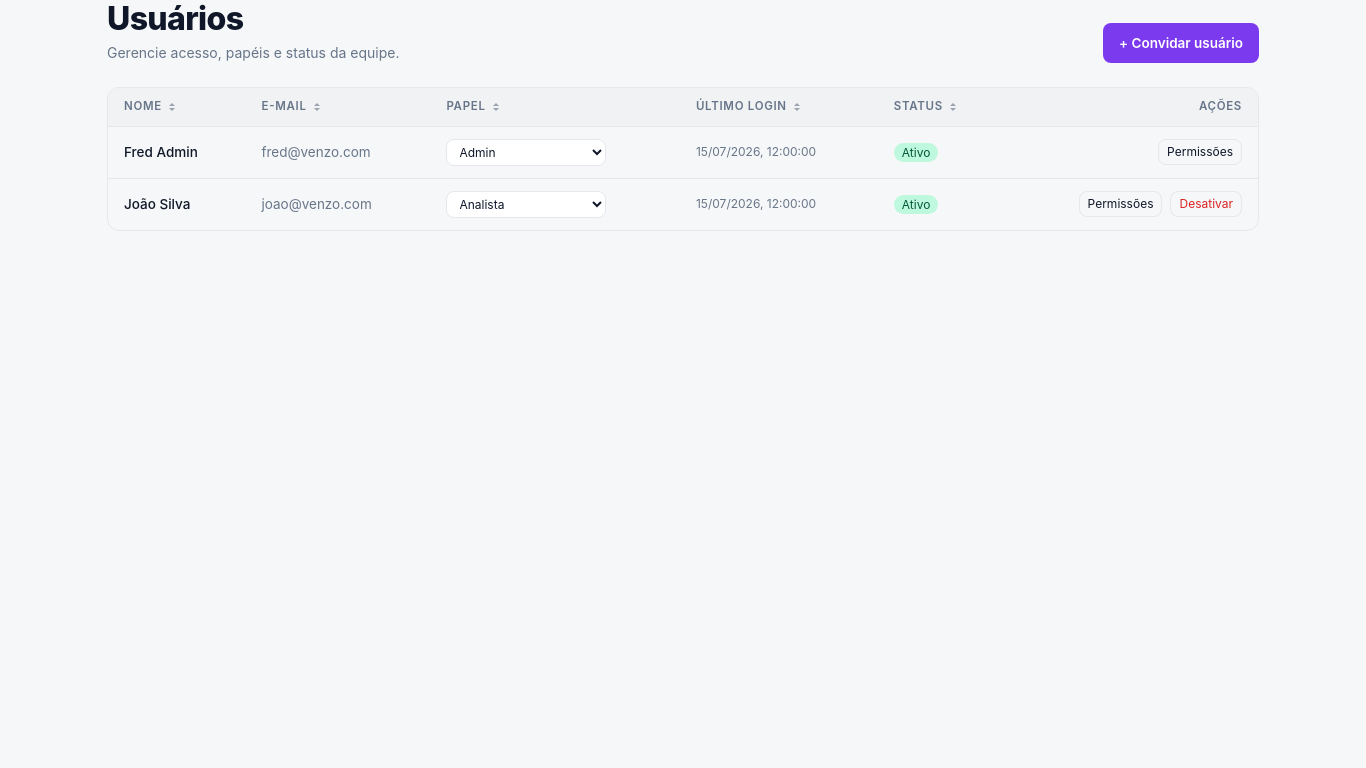
Scenario: /admin/users — convite + ordenação (coverage housekeeping) › botão "+ Convidar usuário" abre o modal com os campos
What coordinates should you click on to do the following:
click the button "+ Convidar usuário"
I would click on:
 (1181, 43)
Its box is [1103,23,1259,63].
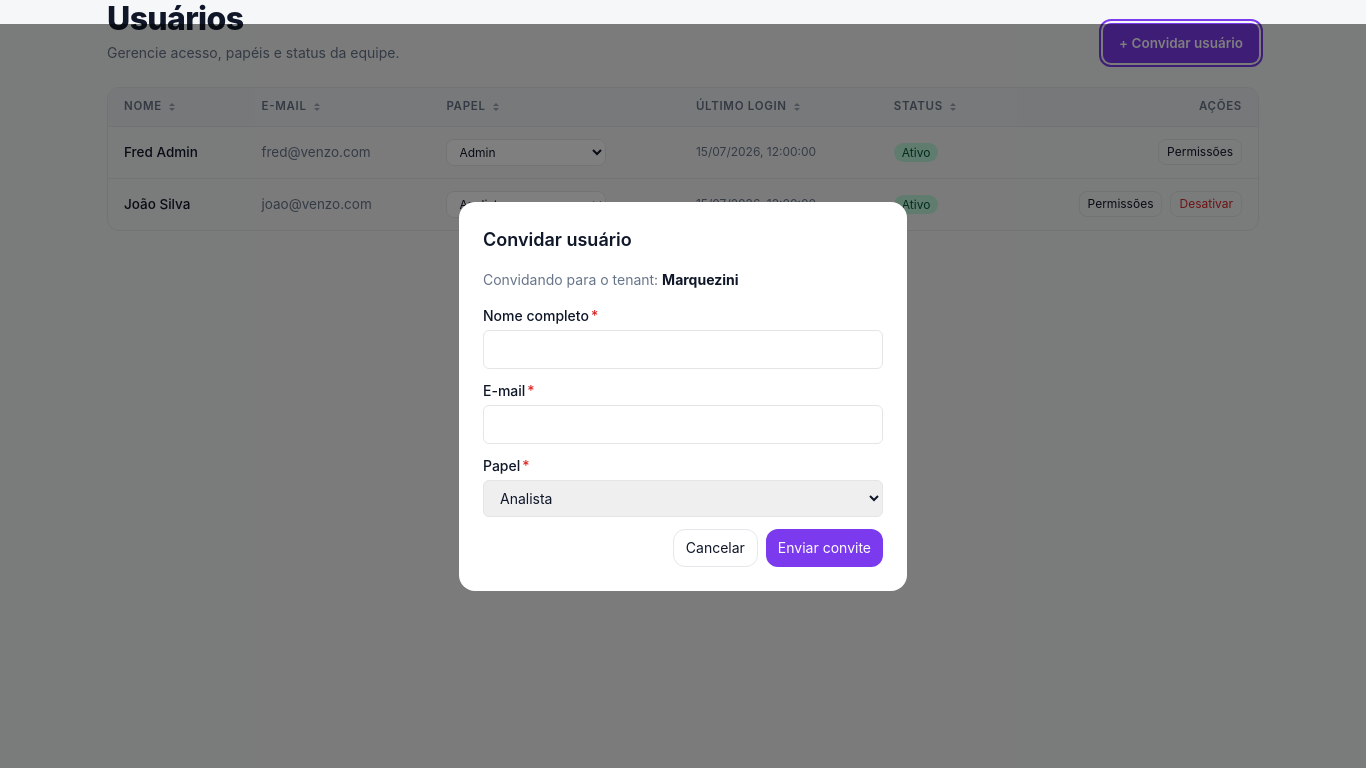
Expected: the field labelled "Nome completo*" is shown, [483,330,883,368]
Expected: the dropdown labelled "Papel*" is shown, [483,480,883,516]
Expected: the text "Marquezini" is shown, [662,270,739,288]
